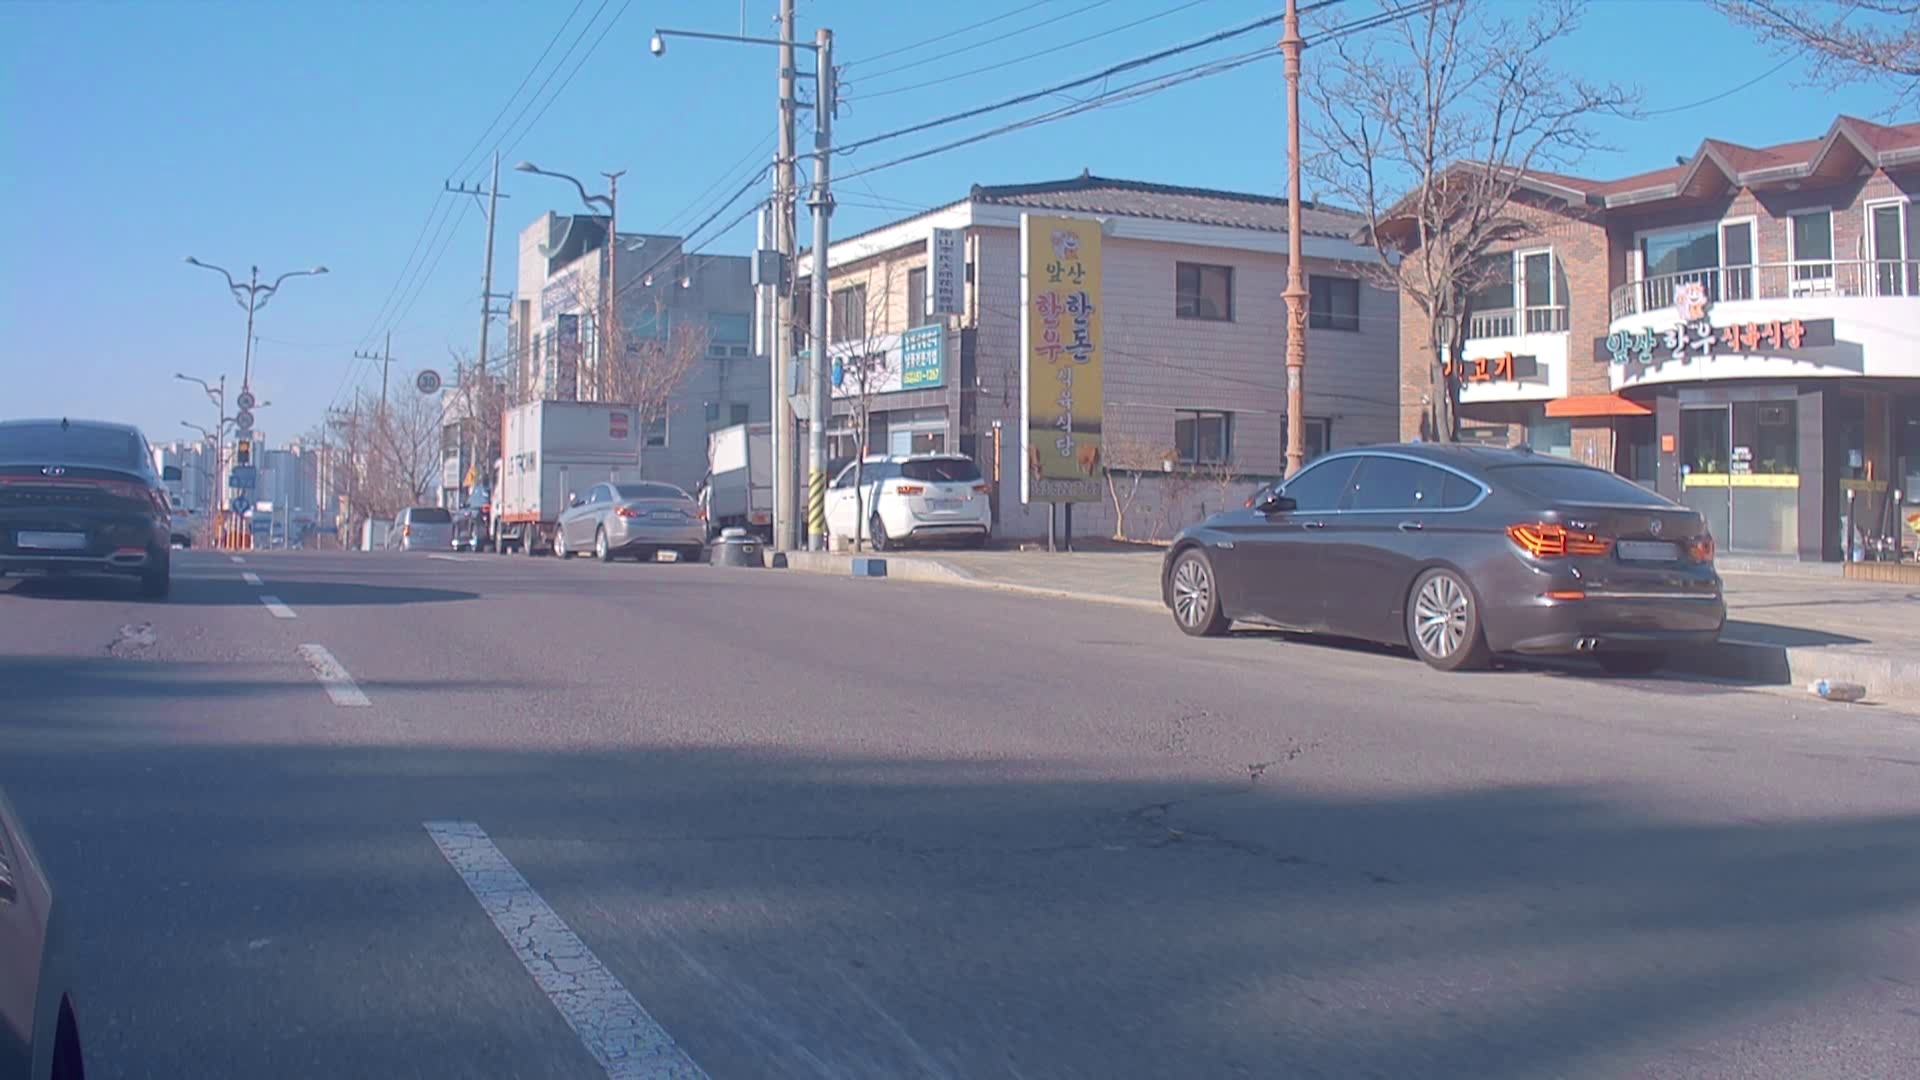trafficLightBar: (236, 440, 253, 467)
trafficSignCircle: (415, 363, 443, 398), (236, 394, 255, 409), (236, 418, 251, 429)
